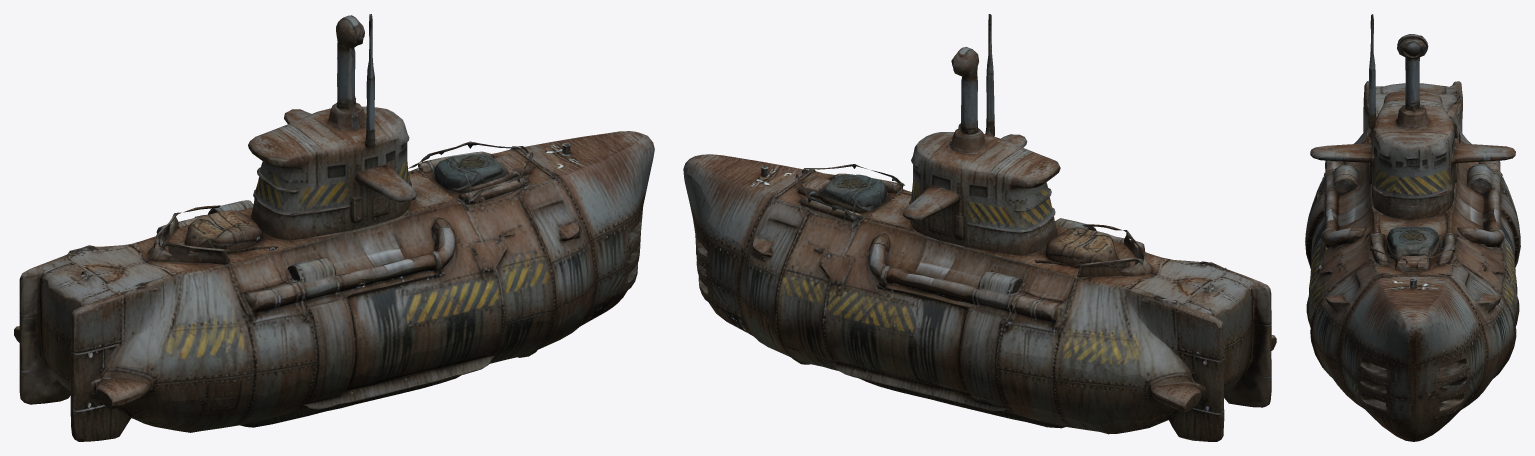
File: sub_apoc.glb
The picture shows the model from 3 angles, left to right: view 1: azimuth 30°, elevation 25°; view 2: azimuth 150°, elevation 25°; view 3: azimuth 270°, elevation 25°; orthographic projection. The views are drawn at different scales.
Parts seen in each view (by area): view 1: world; view 2: world; view 3: world.
Boxes of the visible parts, x1,y1,x2,y2 form: world: [14, 14, 654, 441]; world: [683, 14, 1276, 441]; world: [1305, 14, 1520, 441].
Size of the model in its own units: 0.999 by 0.6368 by 0.3576.
Materials: 1 (1 with a texture image).
